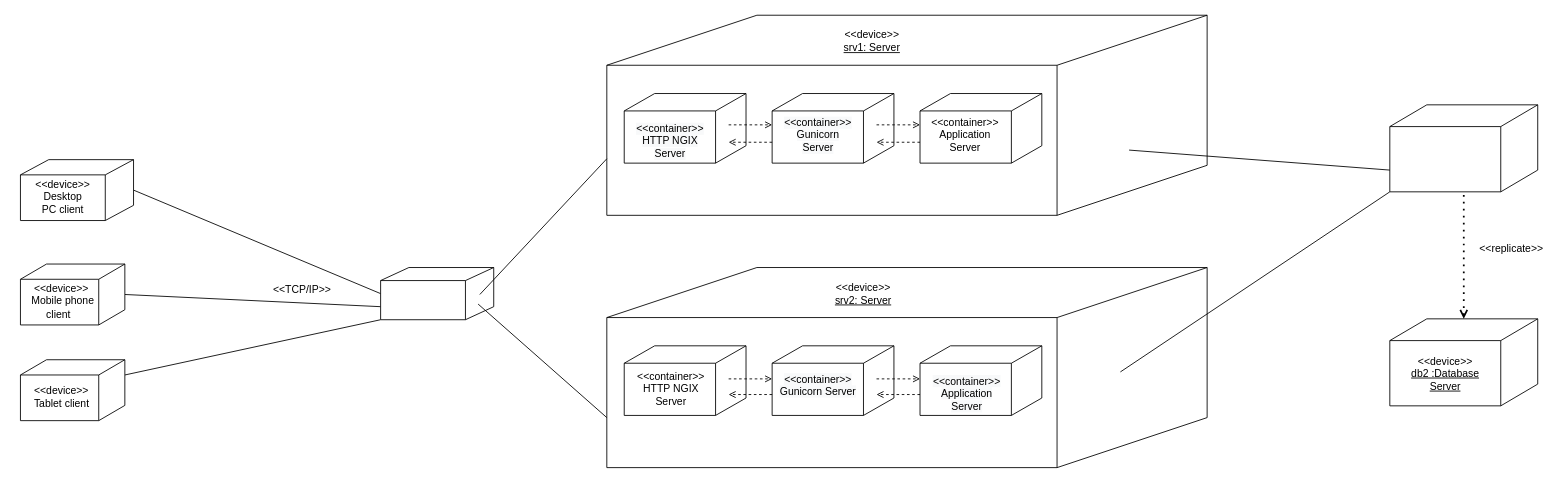
Image size: 1558x483. Some labels were removed from this diagram. Each missing label, with the centre of its shape:
"<<device>> db1 :Database Server" belongs at point 1463,148.
"<<device>> Load balancer" belongs at point 437,293.
